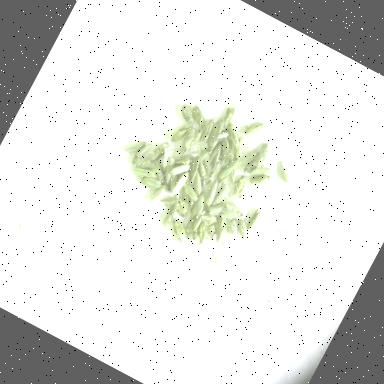pbw: (164, 218, 194, 248), (203, 116, 228, 152), (169, 187, 197, 219), (217, 198, 247, 226), (155, 154, 181, 186), (214, 153, 240, 184), (174, 127, 198, 159), (185, 103, 213, 130), (211, 137, 237, 165), (198, 178, 222, 208), (234, 145, 258, 175), (180, 154, 204, 184), (226, 172, 250, 202), (220, 122, 246, 149), (186, 154, 213, 180), (146, 137, 170, 166), (187, 190, 210, 220), (207, 214, 230, 243), (145, 180, 167, 210), (190, 219, 212, 248), (204, 141, 225, 171), (272, 160, 296, 186), (245, 168, 271, 192), (242, 154, 266, 180), (227, 134, 249, 161), (158, 201, 178, 230), (243, 118, 267, 142), (250, 142, 272, 168), (186, 170, 208, 196), (130, 162, 156, 184), (128, 152, 154, 174), (210, 180, 230, 208), (170, 169, 190, 197), (147, 160, 170, 184), (230, 217, 252, 241), (178, 181, 202, 203), (248, 161, 272, 183), (122, 136, 144, 160), (204, 158, 222, 187), (196, 118, 216, 144), (138, 173, 162, 194), (132, 137, 152, 162), (154, 148, 174, 173), (218, 106, 237, 132), (174, 103, 196, 125), (168, 158, 190, 180), (172, 150, 194, 172), (244, 207, 262, 233), (185, 128, 203, 154), (224, 217, 243, 238), (162, 172, 180, 194), (206, 199, 225, 219), (195, 146, 213, 166), (158, 193, 176, 211), (199, 210, 218, 226)
